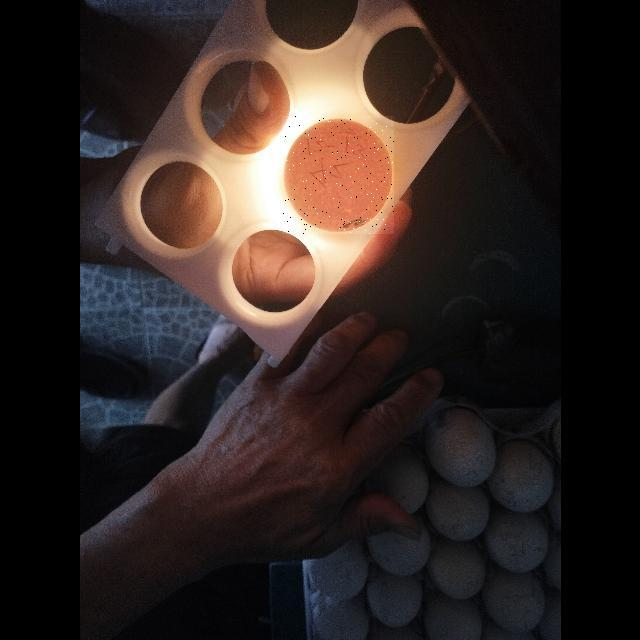Infertile: (282, 116, 394, 234)
